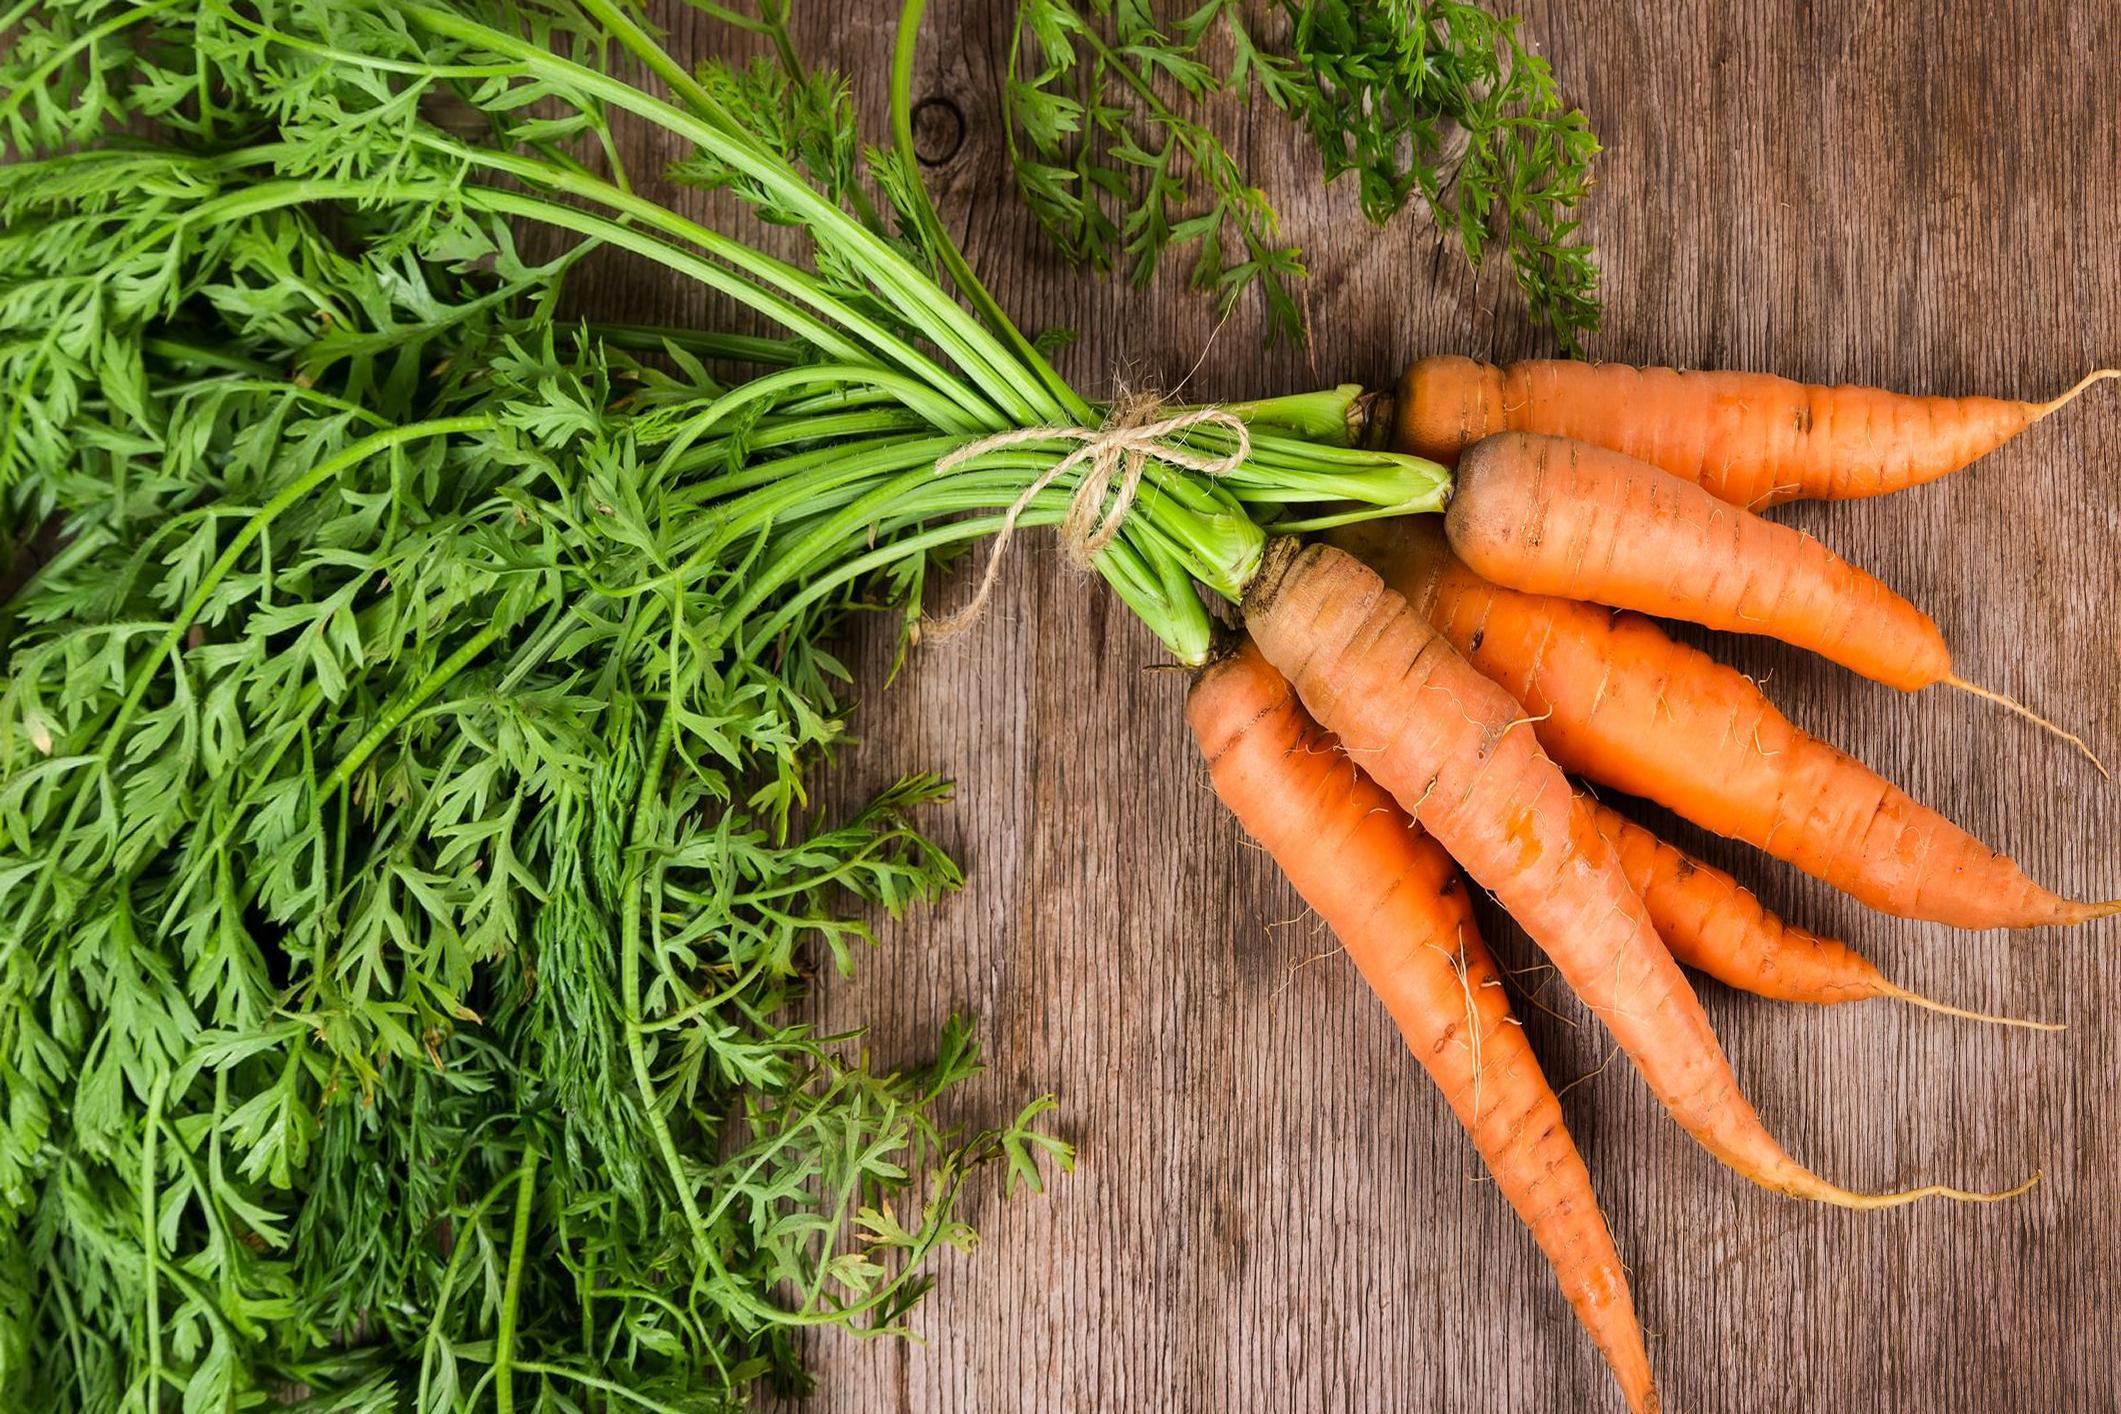carrot: (1117, 521, 1944, 1414), (1417, 287, 2121, 1034)
